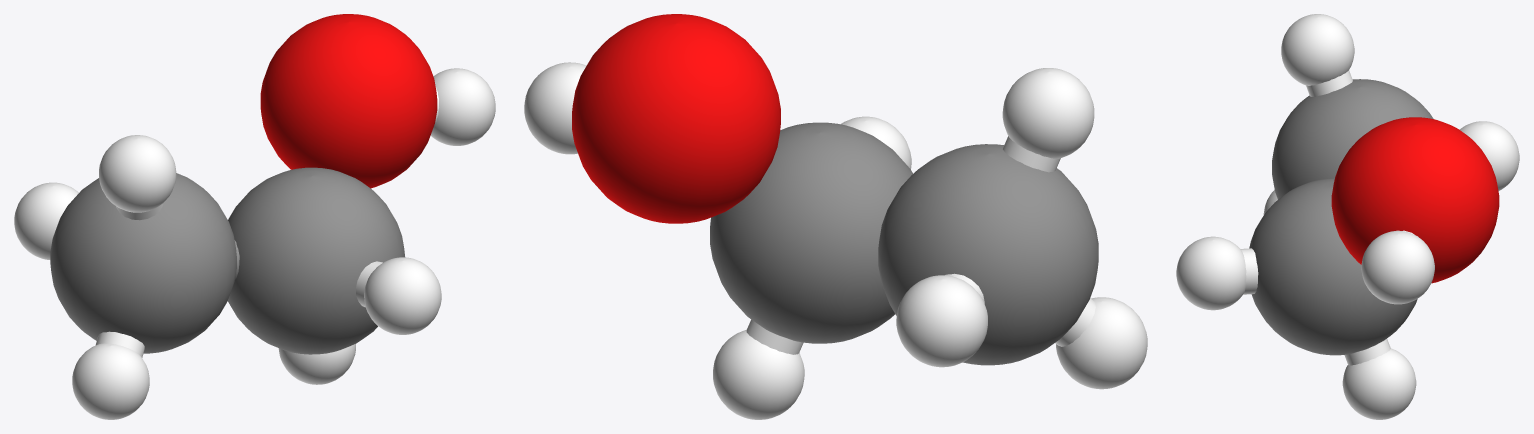
File: ethanol.obj
The picture shows the model from 3 angles, left to right: view 1: azimuth 30°, elevation 25°; view 2: azimuth 150°, elevation 25°; view 3: azimuth 270°, elevation 25°; orthographic projection. The views are drawn at different scales.
Visible parts, largest first — view 1: Carbon_ball, Oxygen_ball, Hydrogen_ball, Hydrogen_sticks_cylinder; view 2: Carbon_ball, Oxygen_ball, Hydrogen_ball, Hydrogen_sticks_cylinder; view 3: Carbon_ball, Oxygen_ball, Hydrogen_ball, Hydrogen_sticks_cylinder.
Part boxes in pixels (<box>): Carbon_ball: <box>50,167,404,354</box>; Oxygen_ball: <box>260,14,437,188</box>; Hydrogen_ball: <box>14,68,495,419</box>; Hydrogen_sticks_cylinder: <box>95,86,438,357</box>; Carbon_ball: <box>710,122,1098,365</box>; Oxygen_ball: <box>572,14,780,223</box>; Hydrogen_ball: <box>524,62,1147,419</box>; Hydrogen_sticks_cylinder: <box>746,136,1095,354</box>; Carbon_ball: <box>1249,79,1433,355</box>; Oxygen_ball: <box>1331,117,1499,283</box>; Hydrogen_ball: <box>1176,14,1519,419</box>; Hydrogen_sticks_cylinder: <box>1240,70,1417,365</box>.
Size of the model in its own units: 4.42 by 3.02 by 2.98.
